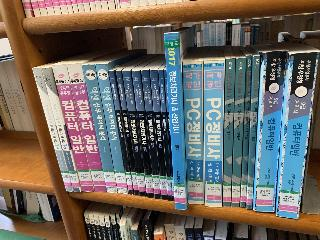book-spine: (269, 48, 320, 219), (251, 48, 288, 212), (52, 63, 94, 194), (67, 62, 106, 194), (32, 66, 72, 193), (41, 66, 80, 193), (83, 63, 118, 194), (96, 63, 127, 195), (164, 33, 186, 210), (202, 59, 225, 207), (122, 70, 146, 197), (183, 61, 204, 205), (109, 71, 133, 195), (116, 70, 139, 196), (132, 70, 154, 198), (141, 70, 161, 199), (150, 70, 168, 200), (245, 55, 260, 209), (230, 57, 245, 207), (239, 55, 253, 207), (222, 58, 235, 207), (159, 70, 172, 201), (164, 70, 175, 201)
